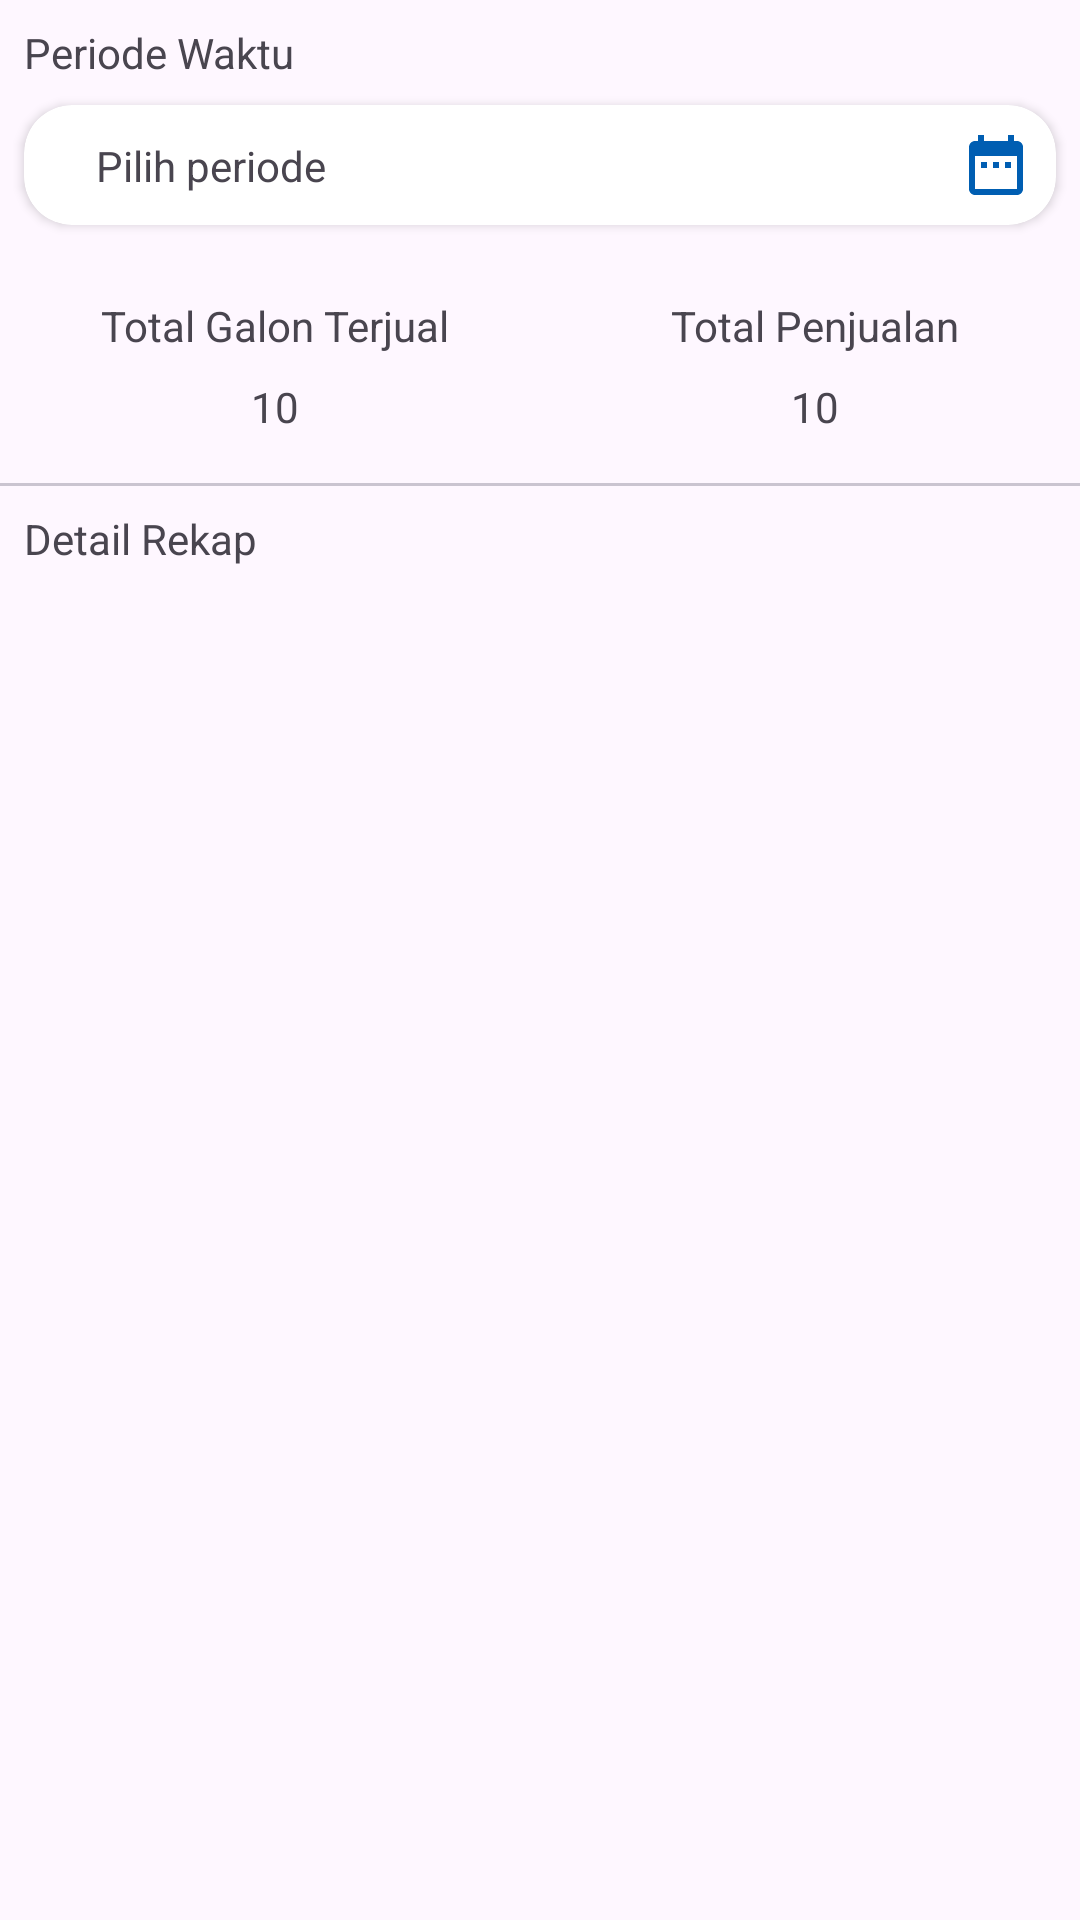

Named icons in this screenshot (1080px×1920px) and their centers, [x,y]:
date range: [996,165]
